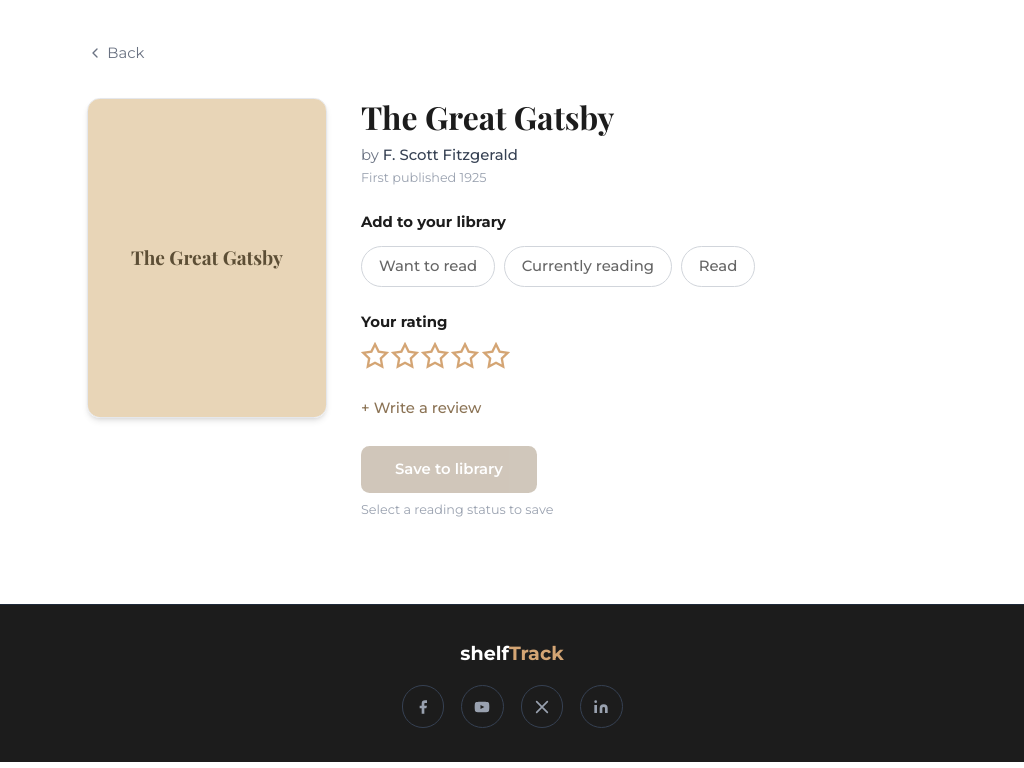
it: BookDetailPage › saving to library › shows "Saving..." while the request is in flight
Click the button "Want to read" at (428, 267), box [361, 246, 495, 287]
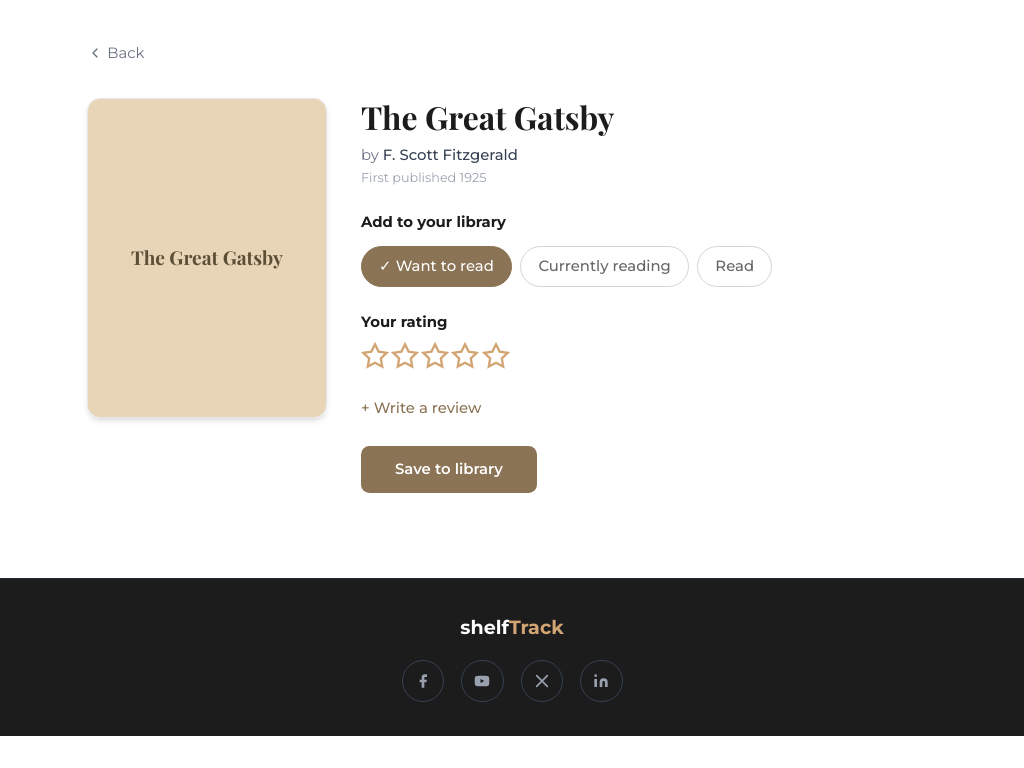
Click the button "Save to library" at (449, 470), box [361, 446, 537, 493]
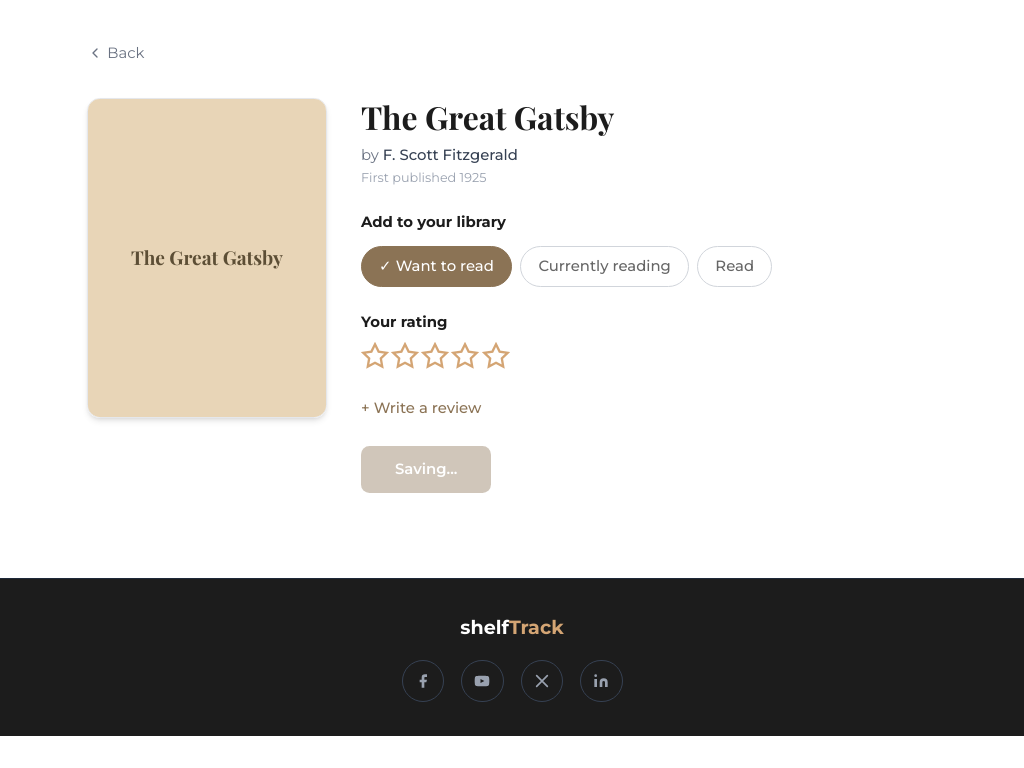
Expected: the button "Saving..." is shown, [361, 446, 492, 493]
